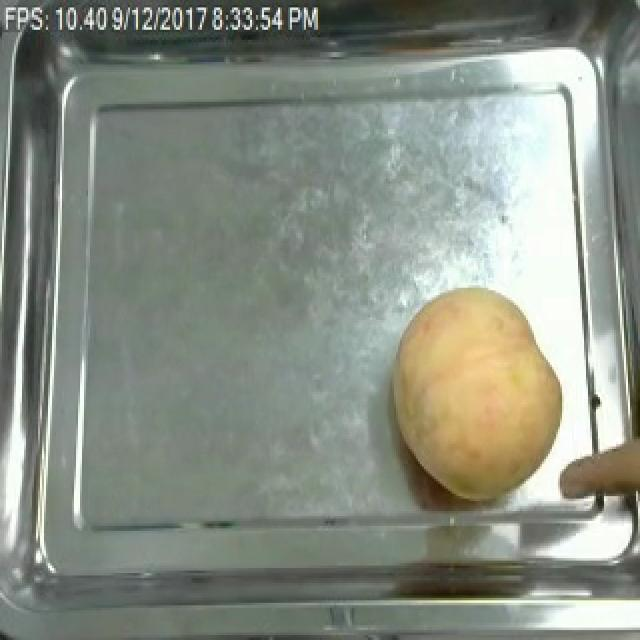Fruit: (384, 278, 576, 503)
